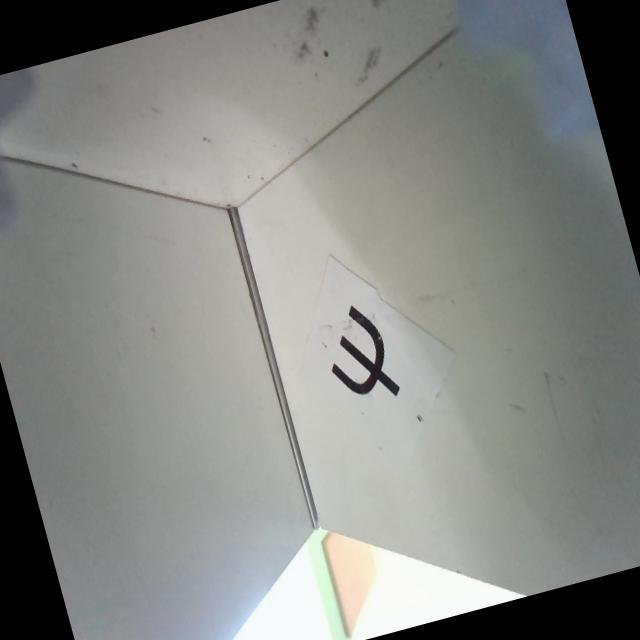nedoF: (315, 296, 401, 411)
